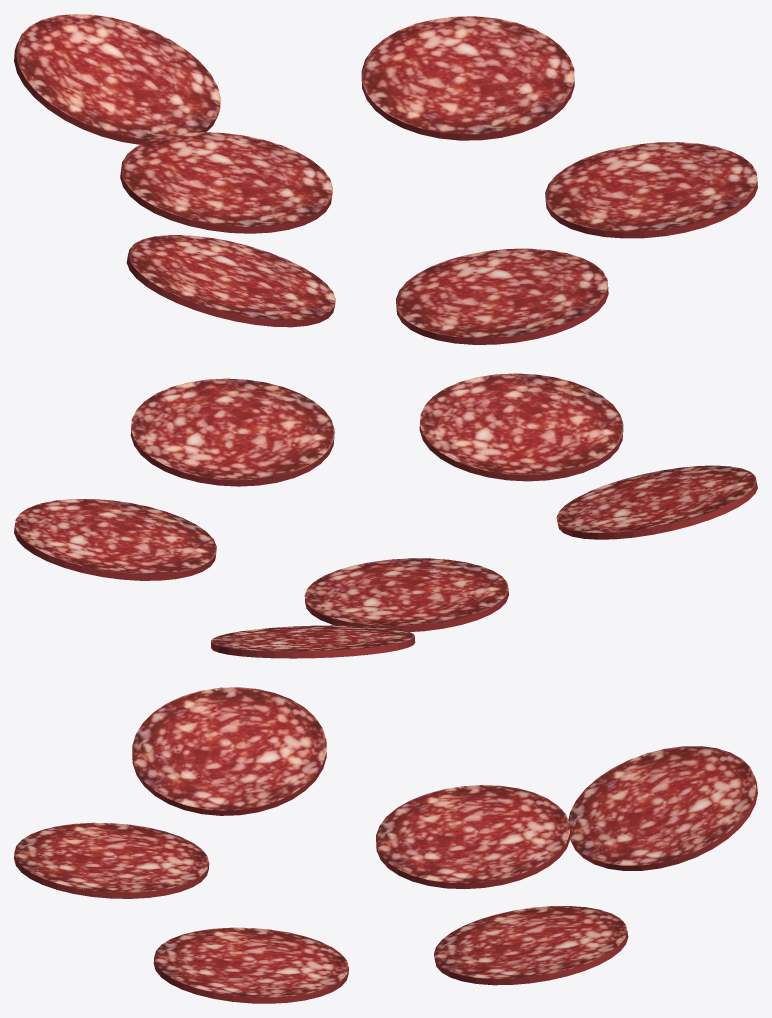
The model's file is peperonis.glb.
3 views of the same model, one above another, from view 1: azimuth 30°, elevation 25°; view 2: azimuth 150°, elevation 25°; view 3: azimuth 270°, elevation 25° (orthographic). The views are drawn at different scales.
Visible parts, largest first — view 1: Cylinder.002_Material.002_0.001; view 2: Cylinder.002_Material.002_0.001; view 3: Cylinder.002_Material.002_0.001.
Boxes of the visible parts, x1,y1,x2,y2 form: Cylinder.002_Material.002_0.001: [14, 14, 757, 344]; Cylinder.002_Material.002_0.001: [14, 373, 757, 658]; Cylinder.002_Material.002_0.001: [14, 687, 757, 1003].
Bounding box in the file's own units: 0.148 × 0.0173 × 0.1698.
Materials: 6 (6 with a texture image).
